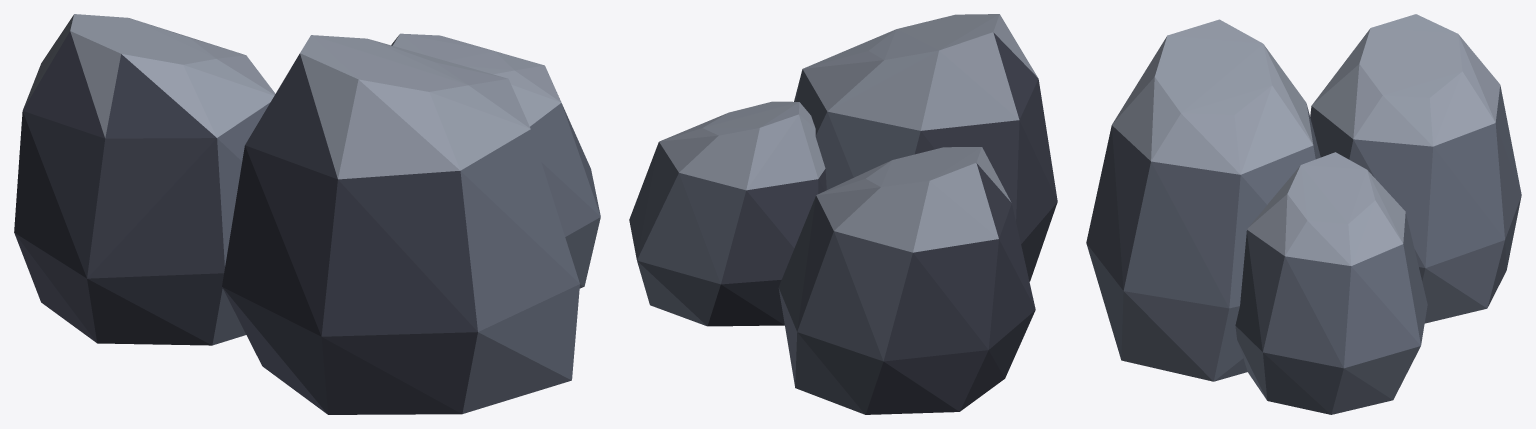
The model's file is TW_ROCK_CLUSTER_SMALL_A_LOD0.glb.
3 views of the same model, side by side, from view 1: azimuth 30°, elevation 25°; view 2: azimuth 150°, elevation 25°; view 3: azimuth 270°, elevation 25° (orthographic). The views are drawn at different scales.
Parts seen in each view (by area): view 1: TW_ROCK_CLUSTER_SMALL_A_LOD0; view 2: TW_ROCK_CLUSTER_SMALL_A_LOD0; view 3: TW_ROCK_CLUSTER_SMALL_A_LOD0.
Boxes of the visible parts, x1,y1,x2,y2 form: TW_ROCK_CLUSTER_SMALL_A_LOD0: (14,14,600,414); TW_ROCK_CLUSTER_SMALL_A_LOD0: (629,14,1057,414); TW_ROCK_CLUSTER_SMALL_A_LOD0: (1086,14,1521,414).
Size of the model in its own units: 1.34 by 0.8293 by 1.25.
1 material, 1 textured.
